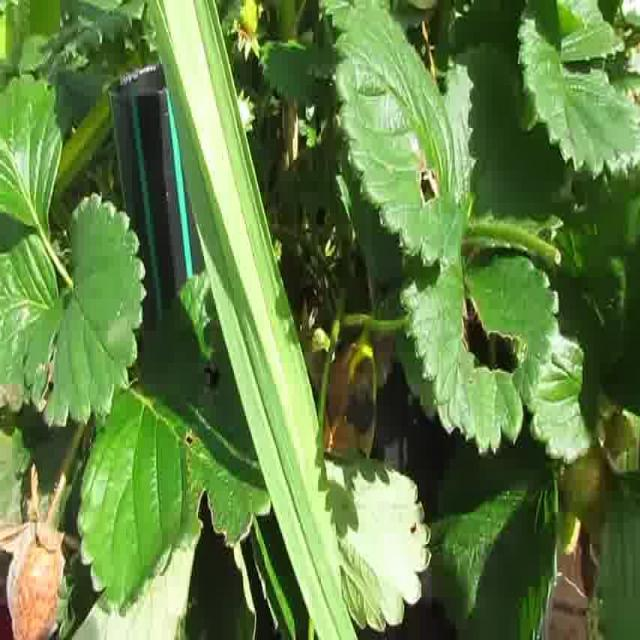Moho gris: (8, 513, 68, 640)
